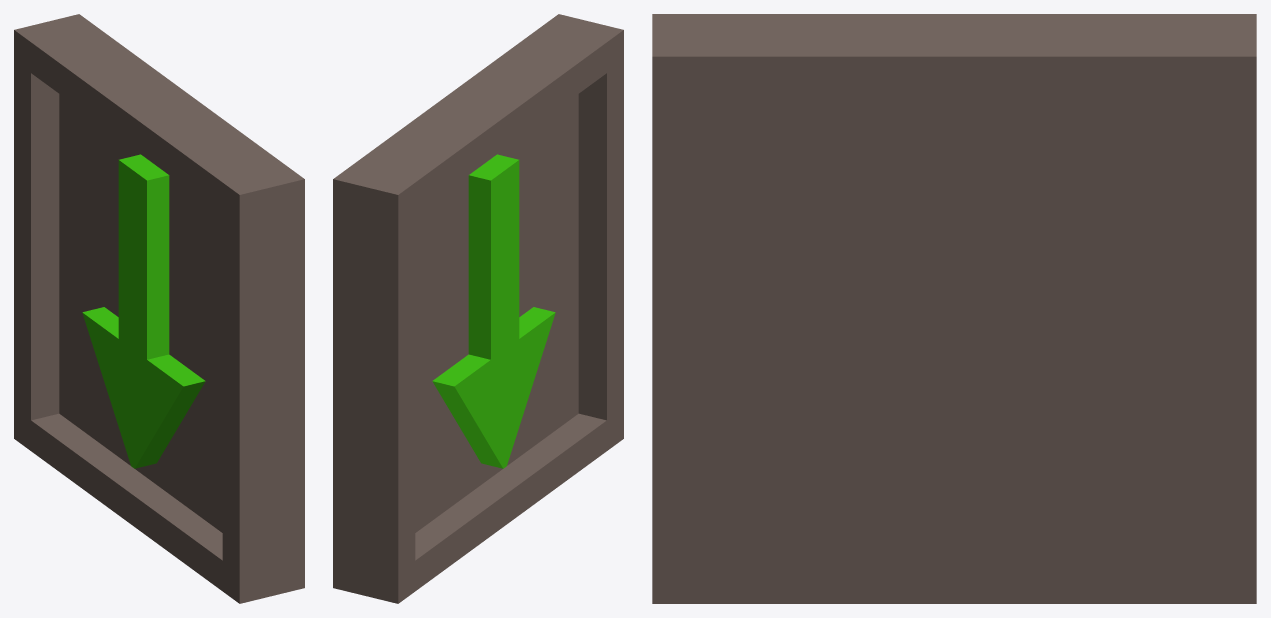
The model's file is 05 Green Signle.FBX.
3 views of the same model, side by side, from view 1: azimuth 30°, elevation 25°; view 2: azimuth 150°, elevation 25°; view 3: azimuth 270°, elevation 25° (orthographic). The views are drawn at different scales.
Visible parts, largest first — view 1: Green_signel_3; view 2: Green_signel_3; view 3: Green_signel_3.
Boxes of the visible parts, x1,y1,x2,y2 form: Green_signel_3: (14, 14, 304, 603); Green_signel_3: (333, 14, 623, 603); Green_signel_3: (652, 14, 1256, 603).
Bounding box in the file's own units: 19.45 × 117 × 117.
